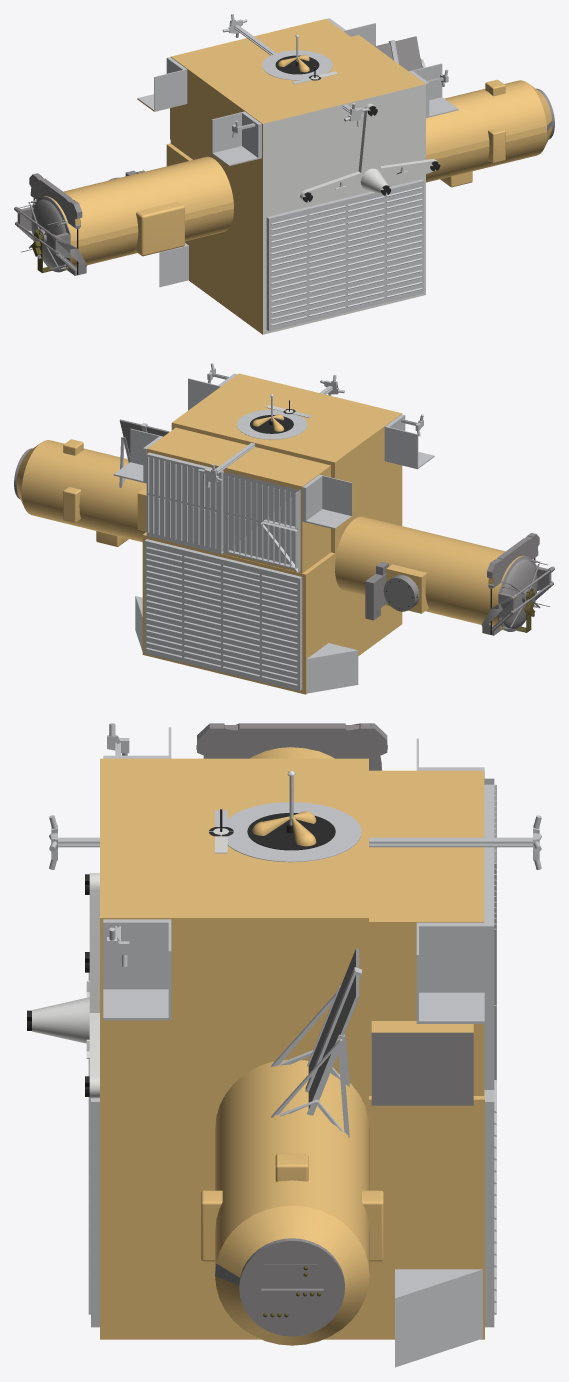
File: spartan-201.glb
3 renders of one model, top to bottom at view 1: azimuth 30°, elevation 25°; view 2: azimuth 150°, elevation 25°; view 3: azimuth 270°, elevation 25°, orthographic. The views are drawn at different scales.
Visible parts, largest first — view 1: Fake; view 2: Fake; view 3: Fake.
Boxes of the visible parts, x1,y1,x2,y2 form: Fake: (14, 14, 554, 334); Fake: (14, 363, 554, 694); Fake: (27, 723, 541, 1367).
Bounding box in the file's own units: 3.33 × 1.53 × 1.45.
